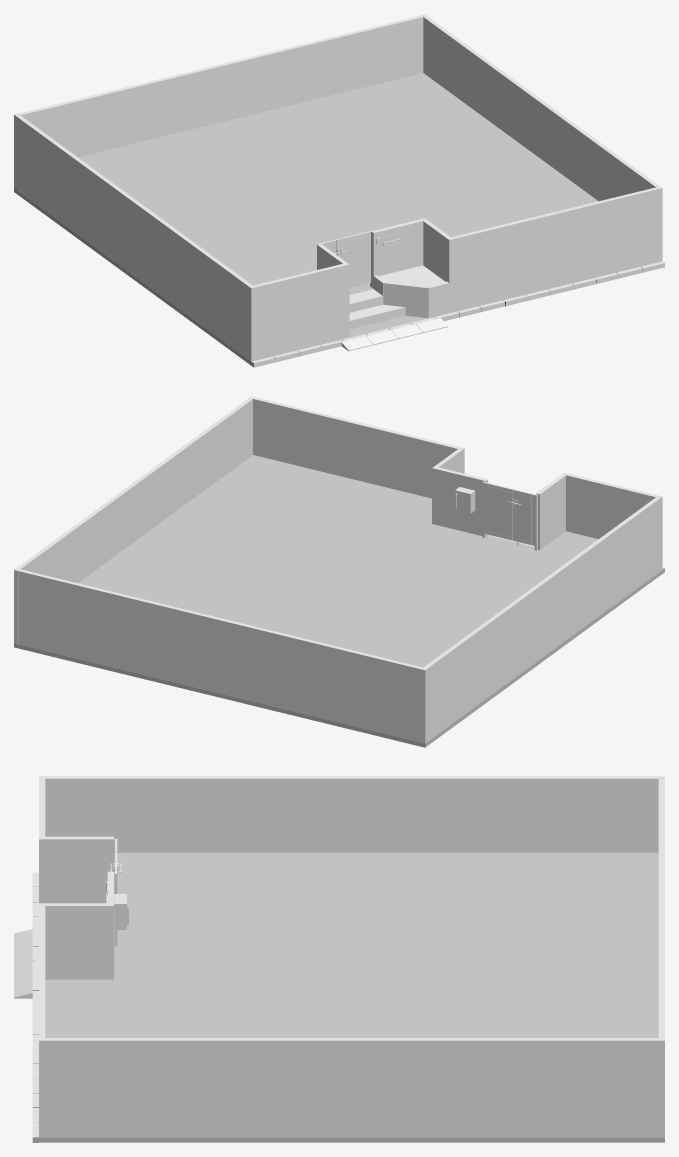
The model's file is Property_J2.fbx.
3 views of the same model, one above another, from view 1: azimuth 30°, elevation 25°; view 2: azimuth 150°, elevation 25°; view 3: azimuth 270°, elevation 25° (orthographic). The views are drawn at different scales.
Visible parts, largest first — view 1: Ground.005, Wall.014, Wall.011, Wall.012, Wall.013, Door.054, Step.001; view 2: Ground.005, Wall.011, Wall.014, Wall.012, Wall.013, Door.054, Door.053; view 3: Ground.005, Wall.013, Wall.012, Wall.014, Wall.011, Step.001.
Part boxes in pixels (<box>): Ground.005: <box>14,73,664,367</box>; Wall.014: <box>249,186,662,361</box>; Wall.011: <box>18,15,423,157</box>; Wall.012: <box>14,113,252,359</box>; Wall.013: <box>421,14,659,201</box>; Door.054: <box>339,231,370,287</box>; Step.001: <box>341,318,447,351</box>; Ground.005: <box>14,455,664,747</box>; Wall.011: <box>18,569,422,742</box>; Wall.014: <box>249,396,662,570</box>; Wall.012: <box>421,497,660,743</box>; Wall.013: <box>14,398,252,643</box>; Door.054: <box>484,482,516,541</box>; Door.053: <box>514,490,535,545</box>; Ground.005: <box>32,852,664,1142</box>; Wall.013: <box>45,1038,664,1136</box>; Wall.012: <box>45,776,664,852</box>; Wall.014: <box>39,776,126,1136</box>; Wall.011: <box>658,779,664,1037</box>; Step.001: <box>14,929,32,998</box>.
Size of the model in its own units: 1000 by 180 by 1040.
